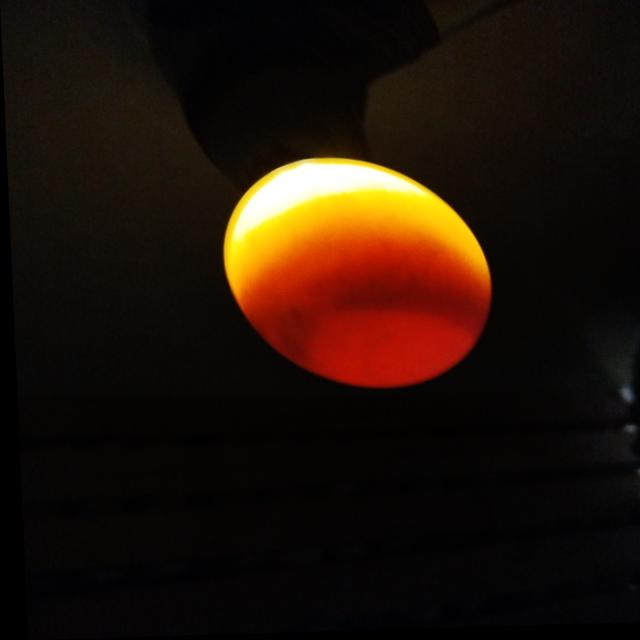Area Infectada: (250, 277, 488, 371)
